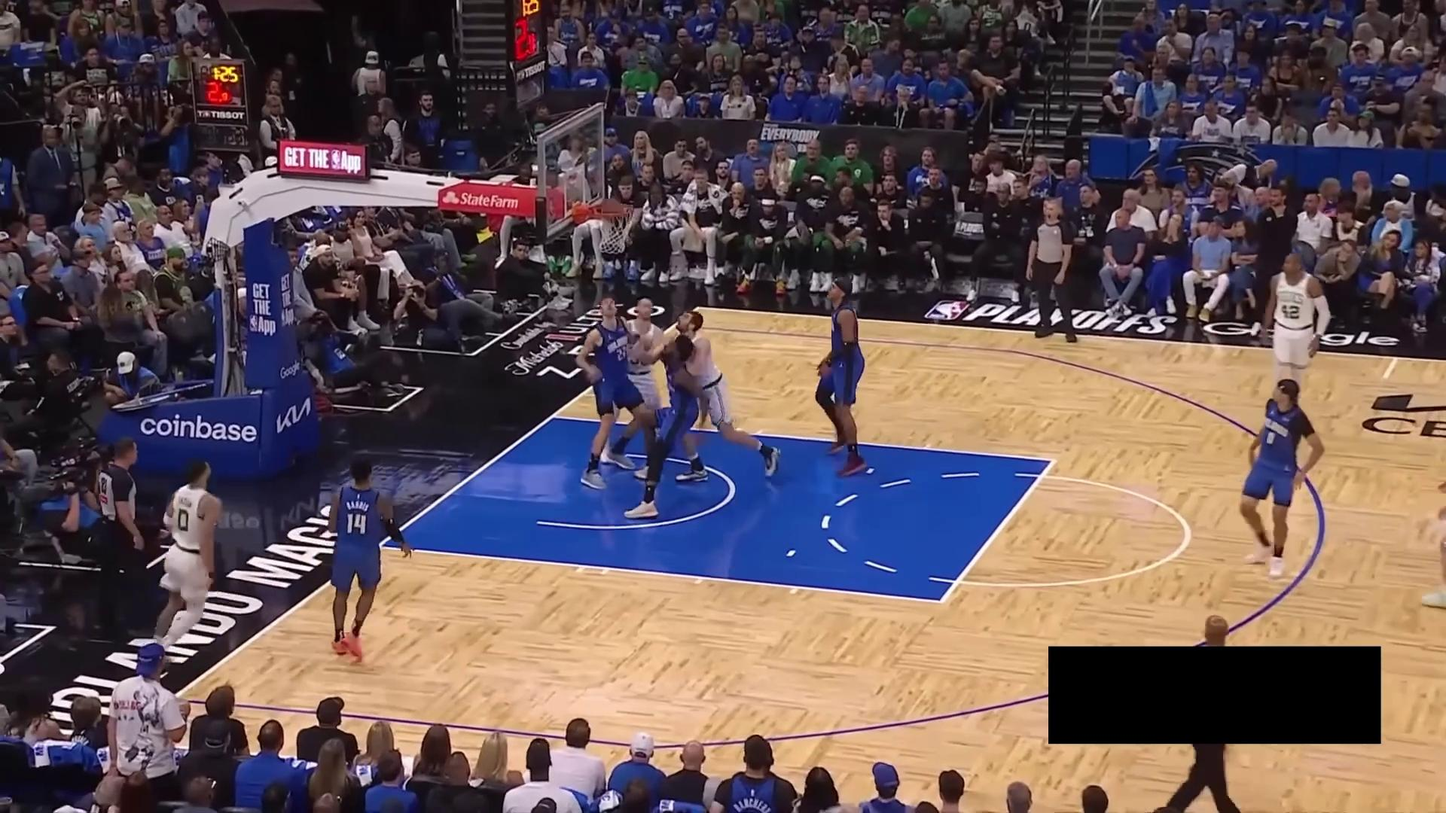ball: (602, 198, 621, 218)
number: (344, 510, 367, 537), (176, 506, 192, 535), (1280, 304, 1302, 320), (1266, 431, 1276, 445)
player: (326, 453, 416, 665), (674, 308, 781, 485), (1240, 371, 1329, 581), (623, 334, 711, 519), (146, 453, 222, 664), (572, 292, 651, 490), (596, 294, 665, 465), (812, 276, 869, 479), (1256, 245, 1338, 384), (1419, 481, 1446, 611)
referee: (1158, 610, 1242, 813), (91, 433, 154, 621), (1023, 191, 1083, 349)
rim: (589, 200, 644, 225)
